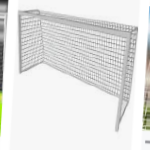goals: (16, 5, 139, 134)
